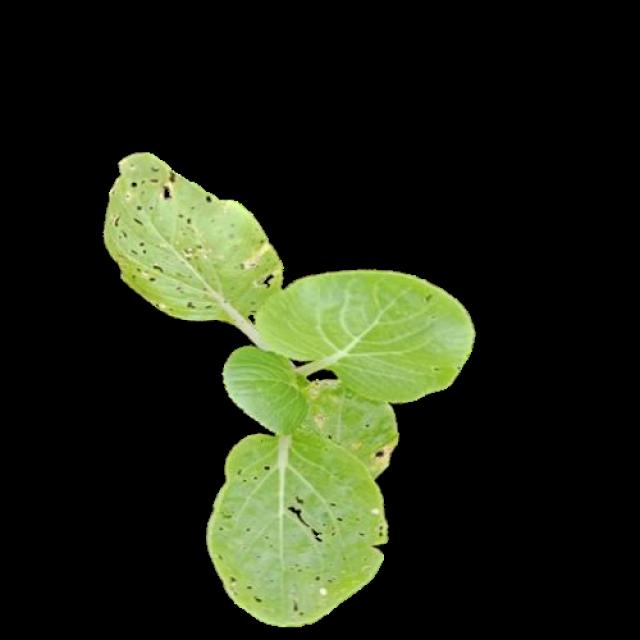not-mature: (102, 150, 474, 627)
unhealthy: (202, 434, 389, 630), (104, 152, 284, 322), (292, 383, 395, 481)
